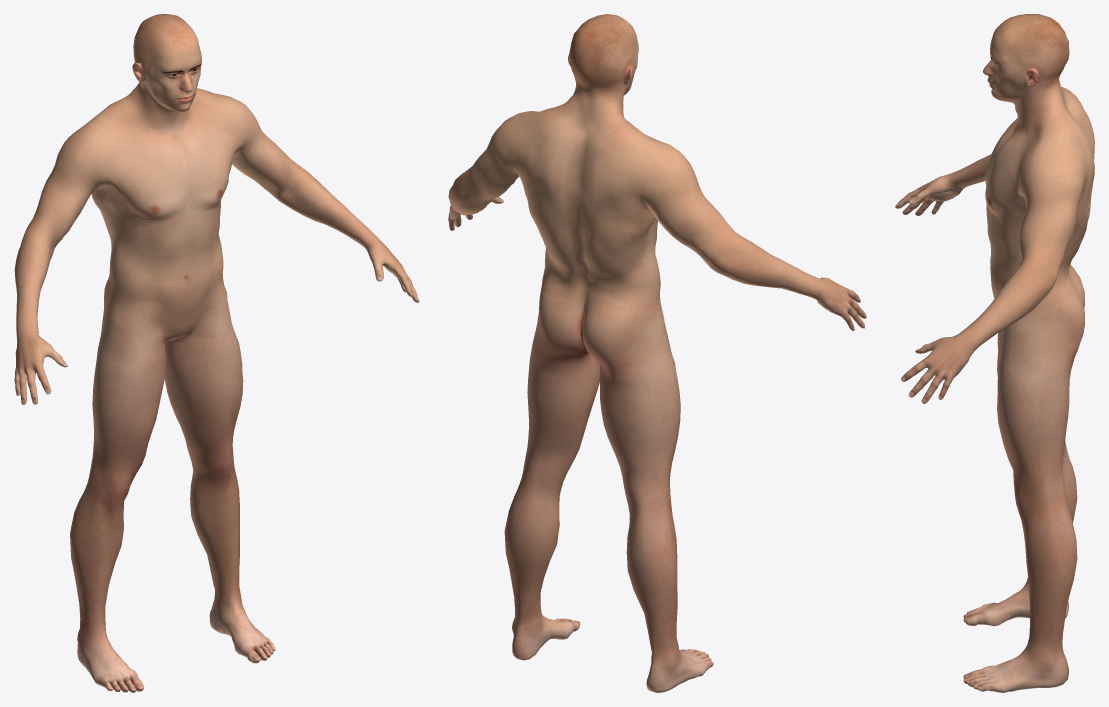
The model's file is makehuman-body.glb.
3 renders of one model, left to right at view 1: azimuth 30°, elevation 25°; view 2: azimuth 150°, elevation 25°; view 3: azimuth 270°, elevation 25°, orthographic.
Visible parts, largest first — view 1: Body; view 2: Body; view 3: Body.
Part boxes in pixels (x1=…): Body: x1=14, y1=14, x2=419, y2=692; Body: x1=448, y1=14, x2=866, y2=692; Body: x1=895, y1=14, x2=1094, y2=692.
Size of the model in its own units: 1.24 by 1.9 by 0.5391.
Materials: 3 (3 with a texture image).
